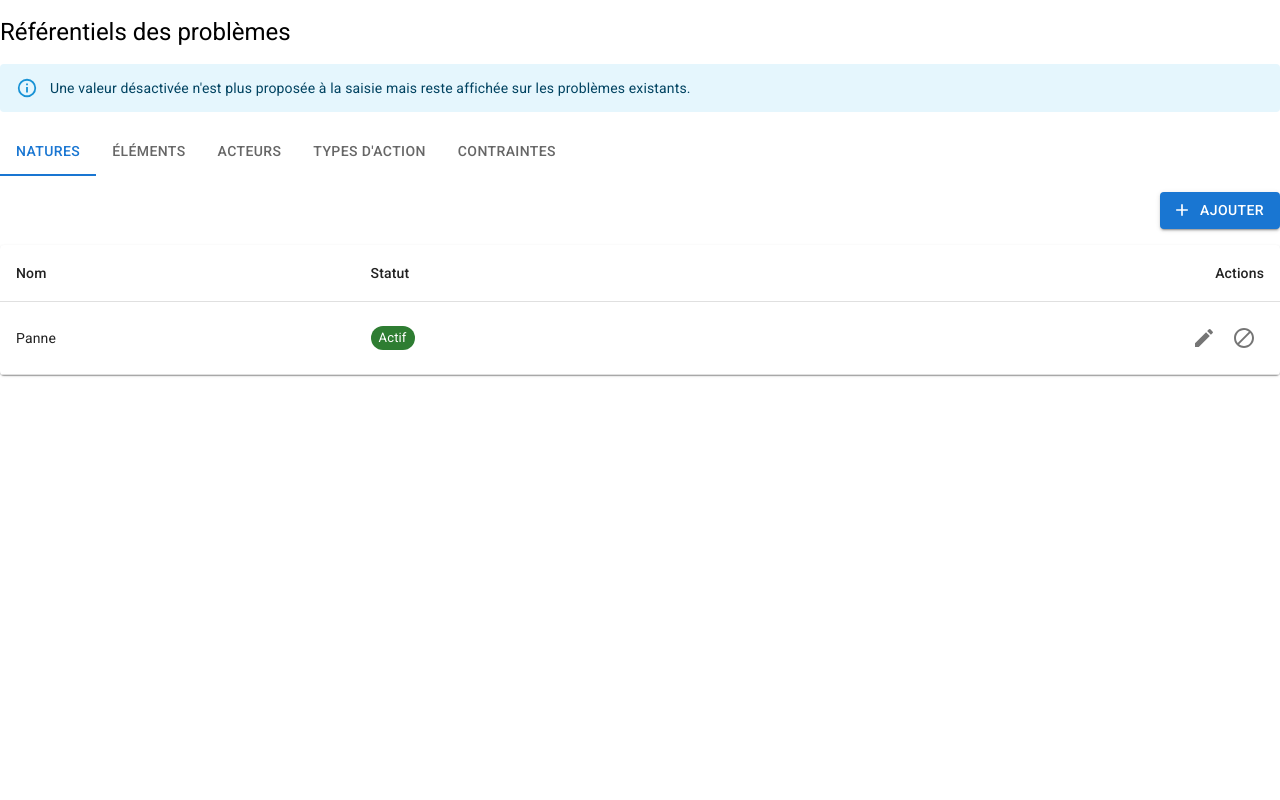
Test: ProblemReferencesPage › renomme et affiche l'erreur métier traduite
Expected: the text "Panne" is shown, [0,301,354,374]
Click the button named "Renommer Panne". click: x=1204, y=338
box: [1184,318,1224,358]
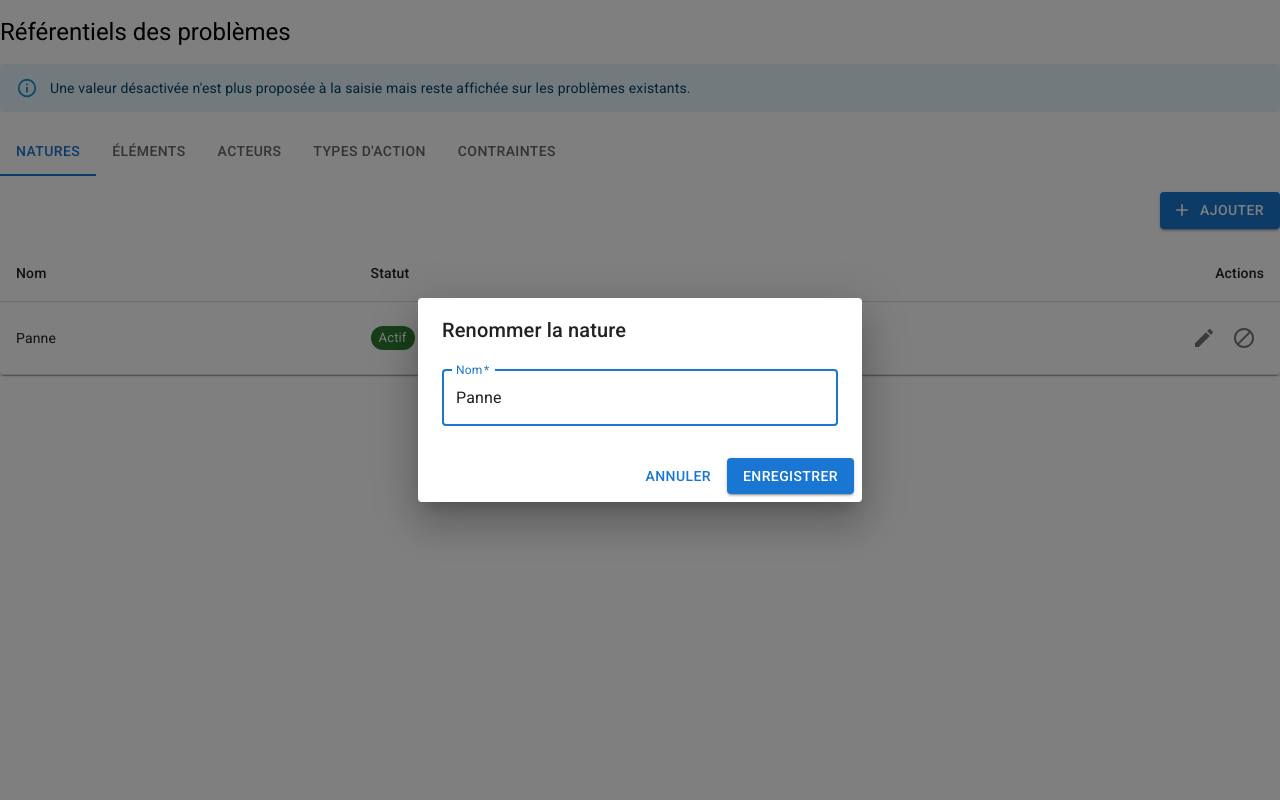
Replace the text in the field labelled "Nom *" with "Casse". click: x=640, y=398
box: [442,370,838,426]
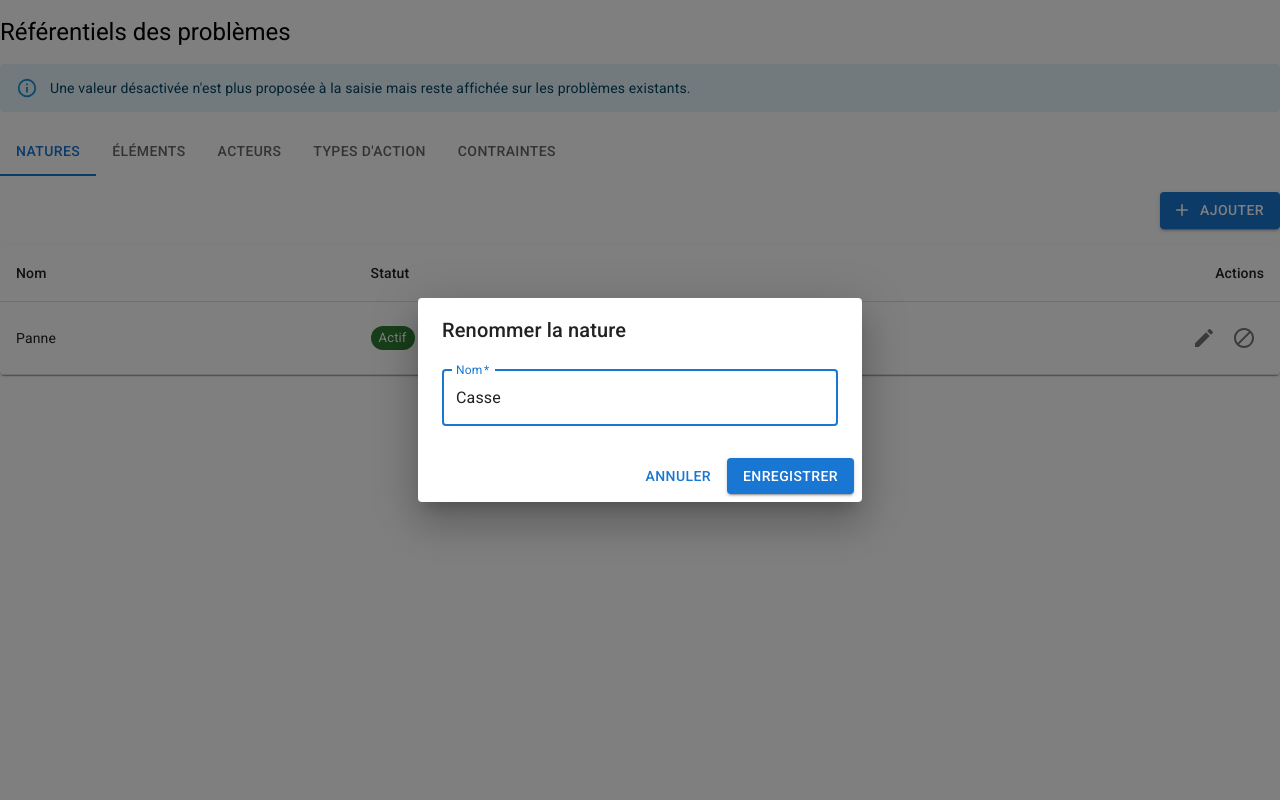
Click the button "Enregistrer". click: x=790, y=476
box: [727,458,854,494]
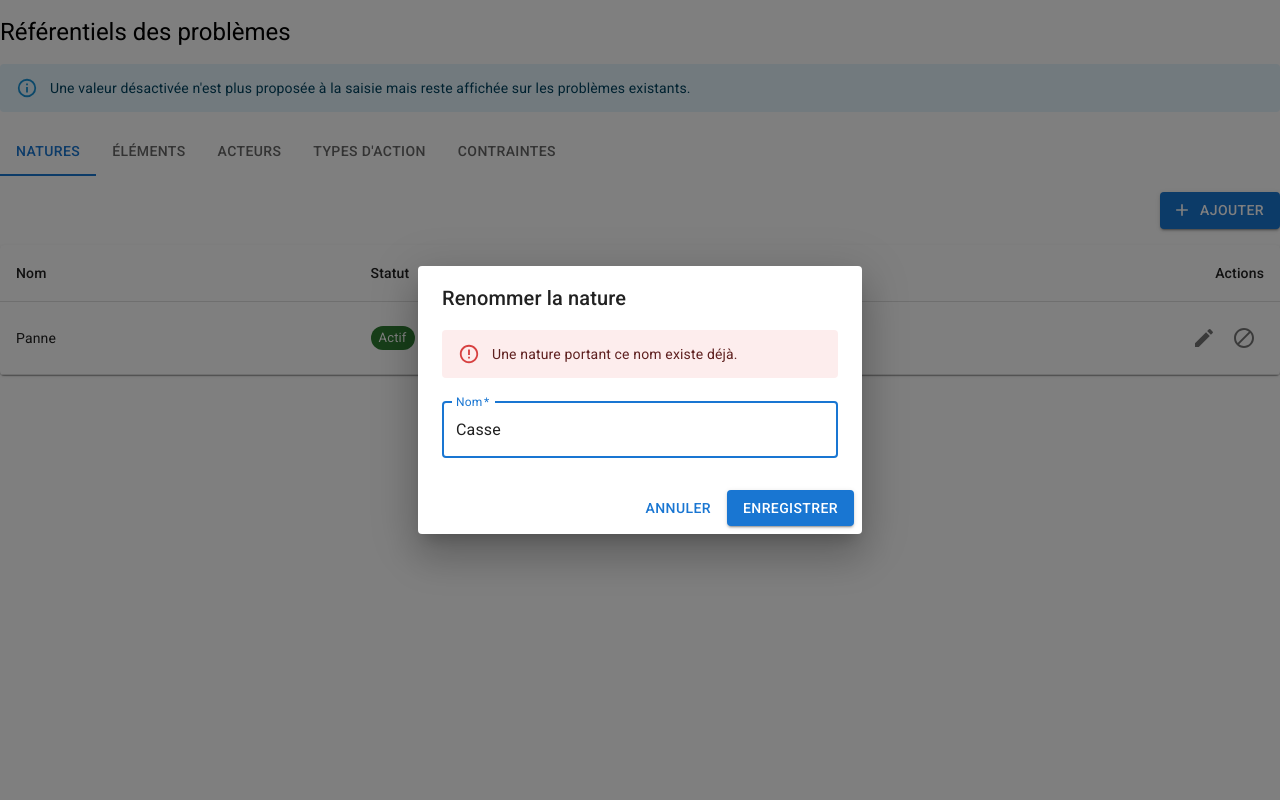
Expected: the text "Une nature portant ce nom existe déjà." is shown, [492,346,738,362]
